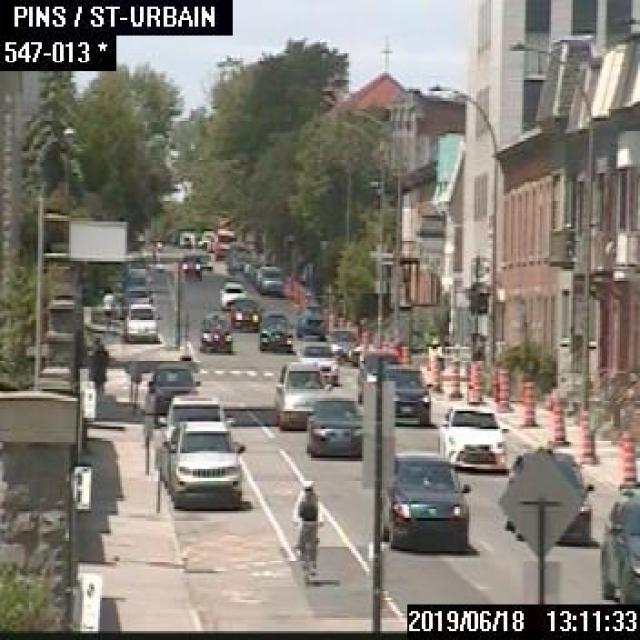construction: (616, 433, 638, 487), (576, 409, 595, 462), (548, 389, 566, 444), (489, 362, 509, 409), (518, 376, 536, 426), (465, 358, 483, 404), (446, 358, 461, 396), (429, 355, 440, 389), (398, 342, 408, 364), (359, 327, 366, 350), (292, 286, 300, 302), (336, 315, 344, 330)
cyclist: (290, 477, 322, 582)
pedestrian: (87, 333, 107, 400), (100, 284, 113, 322)
vehicle: (376, 451, 470, 551), (504, 448, 593, 542), (163, 418, 244, 508), (155, 392, 234, 471), (436, 403, 509, 469), (599, 493, 638, 602), (274, 362, 331, 426), (305, 396, 362, 459), (146, 363, 200, 422), (380, 363, 430, 425), (355, 349, 398, 402), (294, 339, 340, 385), (259, 312, 294, 350), (200, 311, 233, 351), (123, 300, 157, 338), (228, 299, 263, 330), (217, 279, 247, 308), (295, 311, 325, 338), (122, 284, 153, 310), (254, 264, 282, 292), (213, 226, 234, 256), (123, 265, 152, 285), (225, 244, 249, 266), (180, 253, 201, 275), (242, 255, 263, 275), (197, 251, 211, 269)
